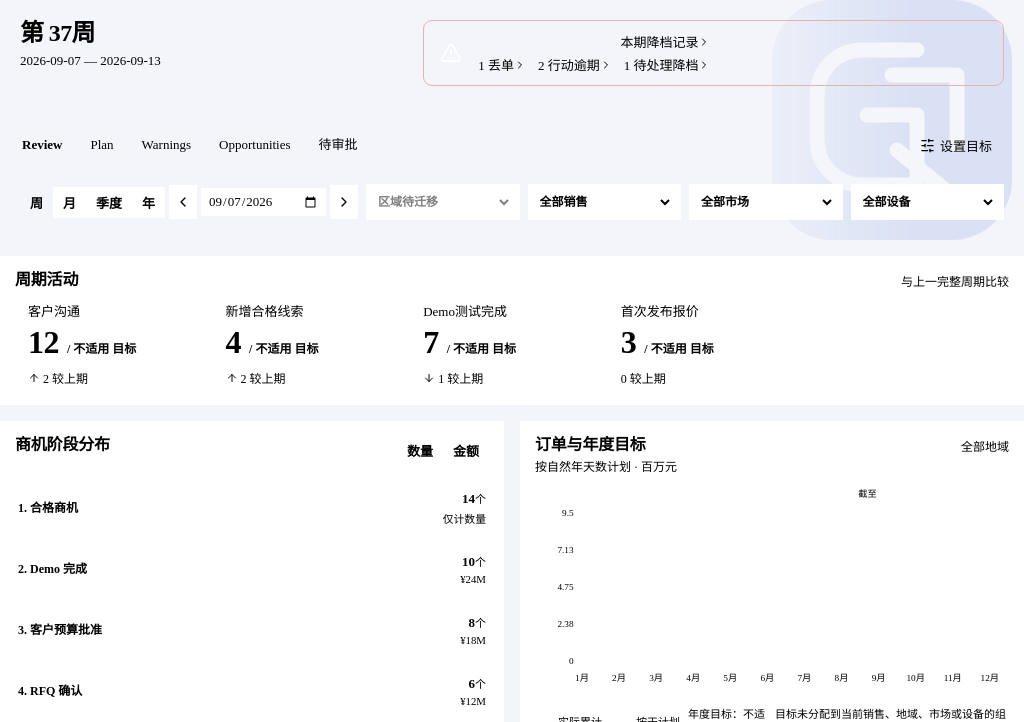
Test case: Manager Review › edits the as-of year leaf target across a New Year week and clears the sales identity
The width and height of the screenshot is (1024, 722).
Type "2026-09-14" into the date field named "参考日期" at (264, 202), box [201,188,326,216]
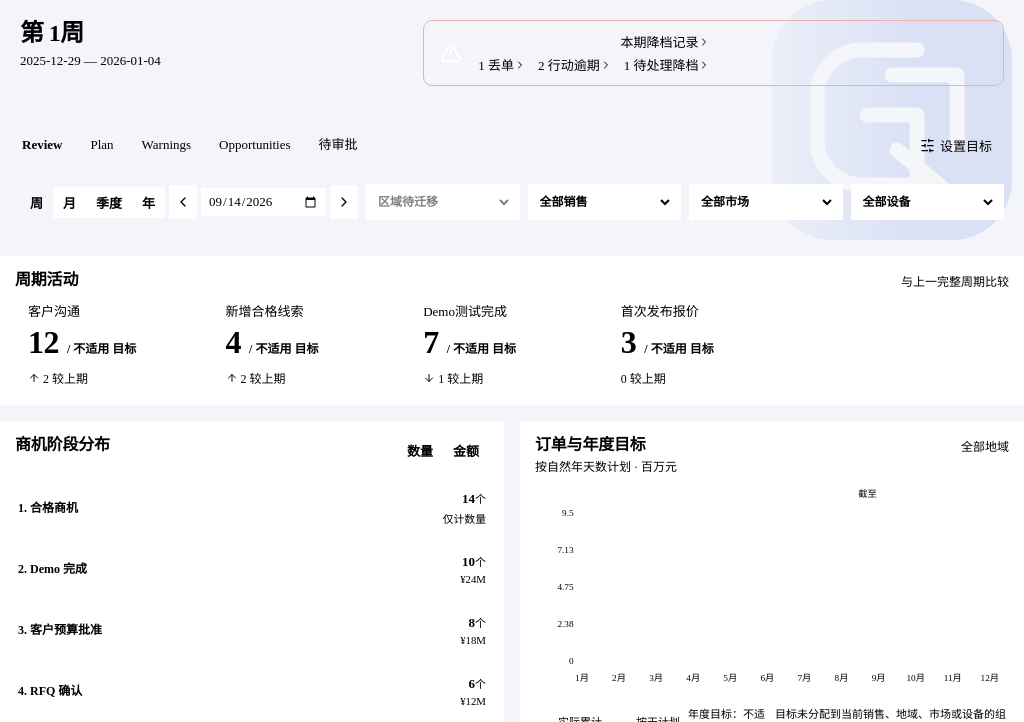
Click the button with class "target-button" at (956, 145), box [908,128,1004,162]
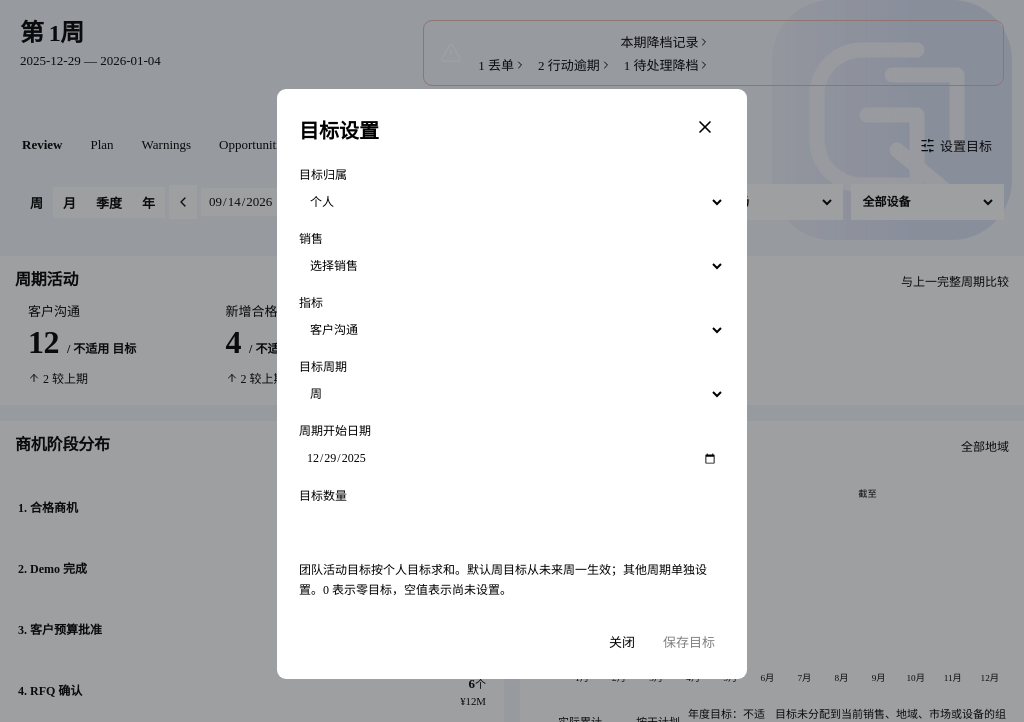
Select "末级地域" in the dropdown with test id "target-scope" at (512, 202), box [299,189,725,215]
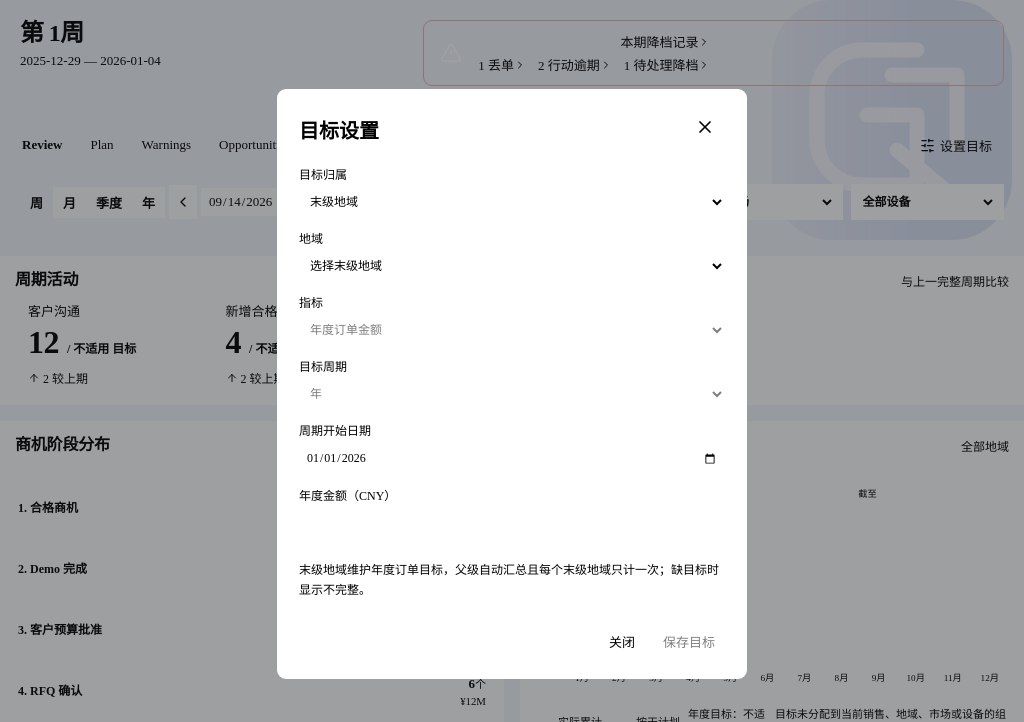
Select "华东" in the dropdown with test id "target-territory" at (512, 266), box [299,253,725,279]
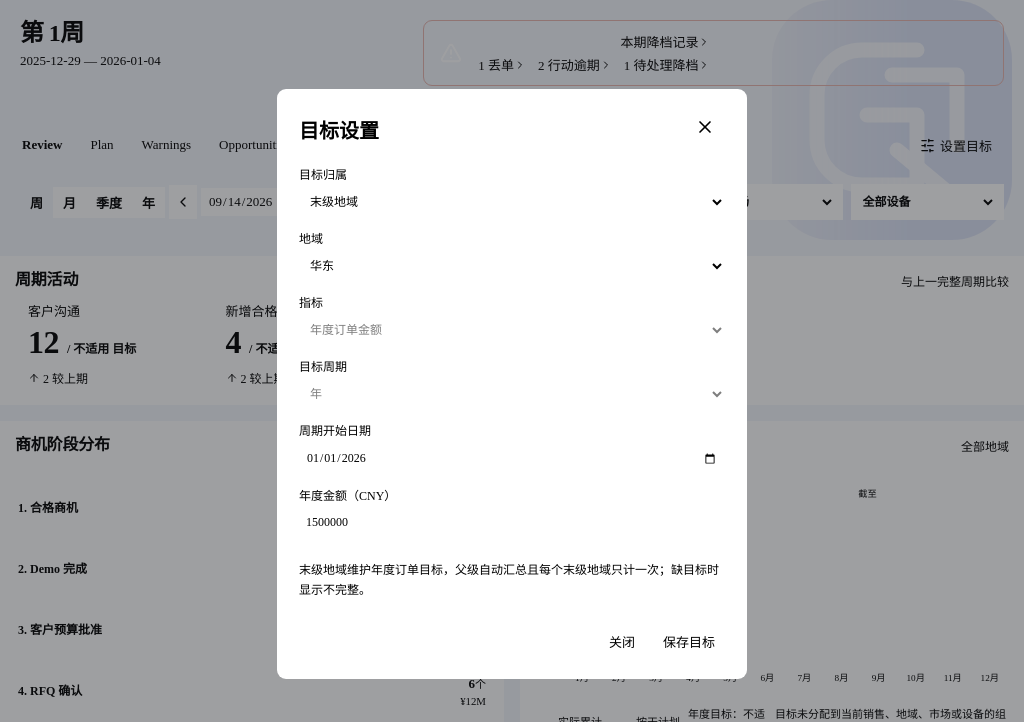
Now the dropdown with test id "target-metric" is disabled, box [299,317,725,343]
Now the dropdown with test id "target-period" is disabled, box [299,381,725,407]
Now the number field labelled "年度金额（CNY）" holds "1500000"
Replace the text in the number field labelled "年度金额（CNY）" with "2000000" at (512, 523), box [299,510,725,535]
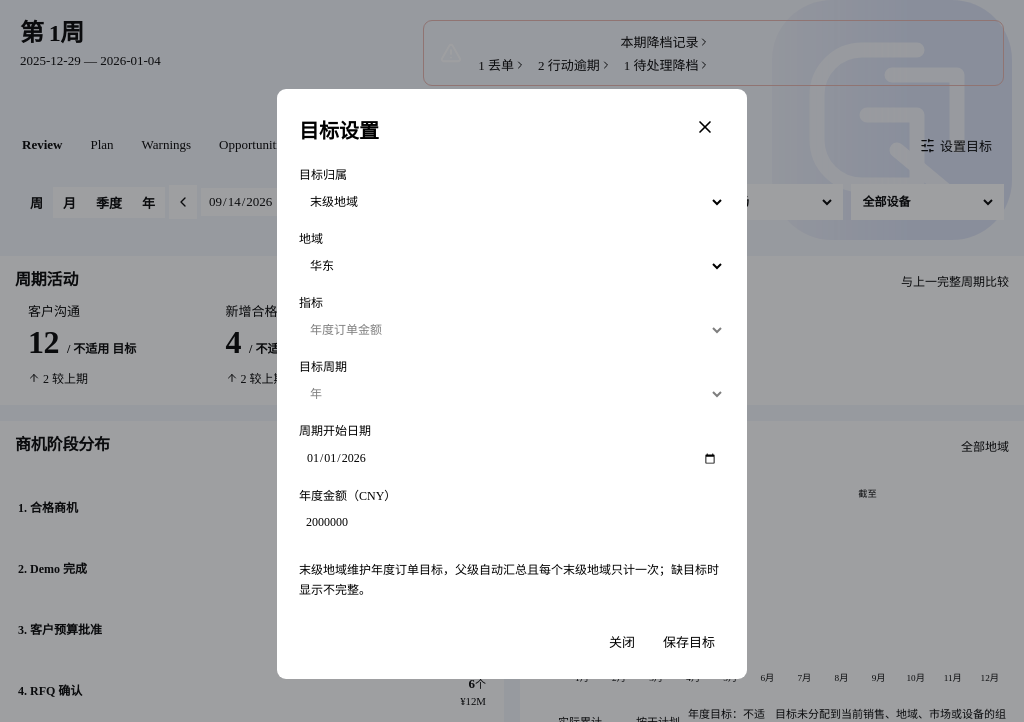
Submit the form, box [299,165,725,657]
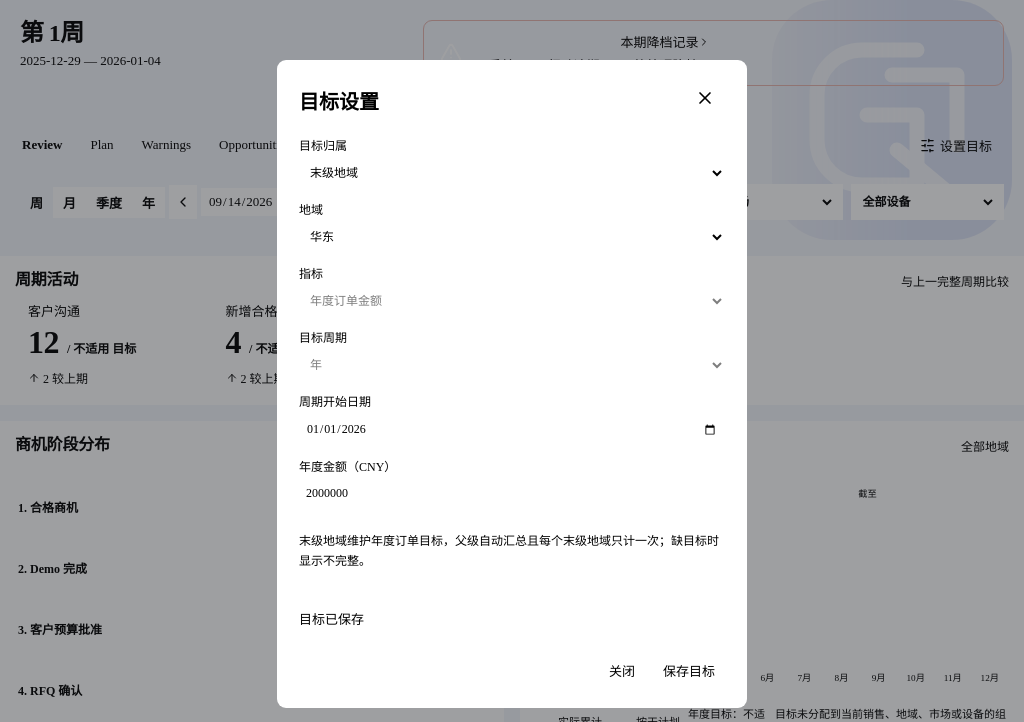
Now the dialog with class "target-dialog" shows "目标已保存", box [299,612,364,627]
